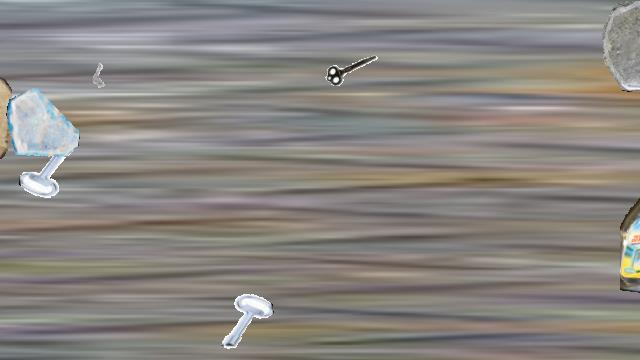glass: (6, 85, 80, 159), (597, 1, 640, 93)
metal: (19, 139, 81, 201), (214, 290, 274, 350), (323, 42, 381, 100), (80, 52, 118, 90)
plastic: (620, 151, 640, 295)
wood: (0, 67, 11, 189)
